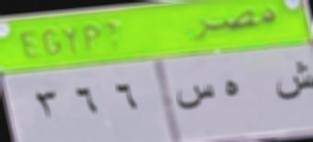3: (27, 84, 63, 127)
6: (74, 83, 101, 117), (115, 78, 140, 113)
haa: (220, 76, 246, 106)
seen: (175, 81, 215, 115)
sheen: (274, 62, 313, 102)
